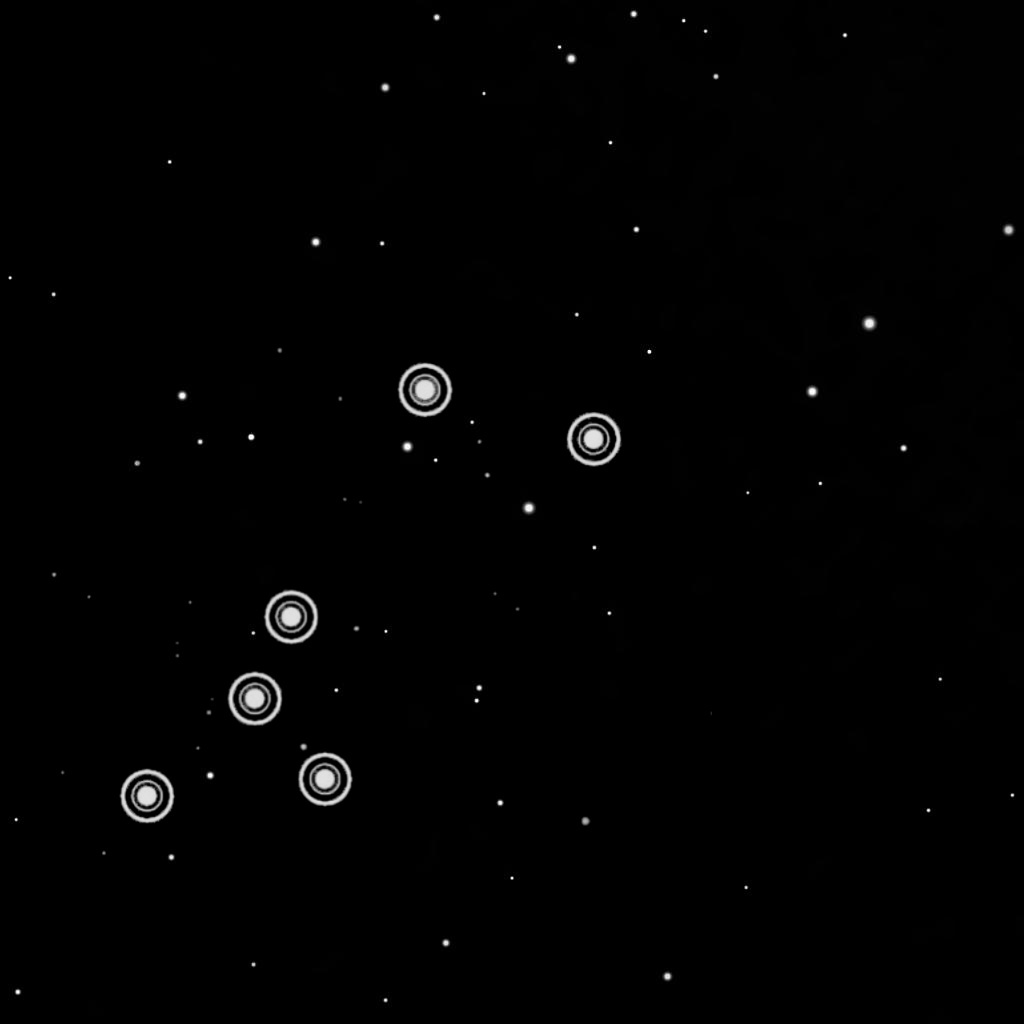canis_major: (104, 353, 627, 845)
